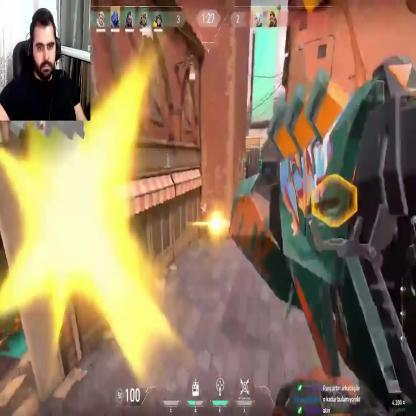enemy: (198, 194, 208, 233)
enemy_head: (200, 197, 204, 204)
